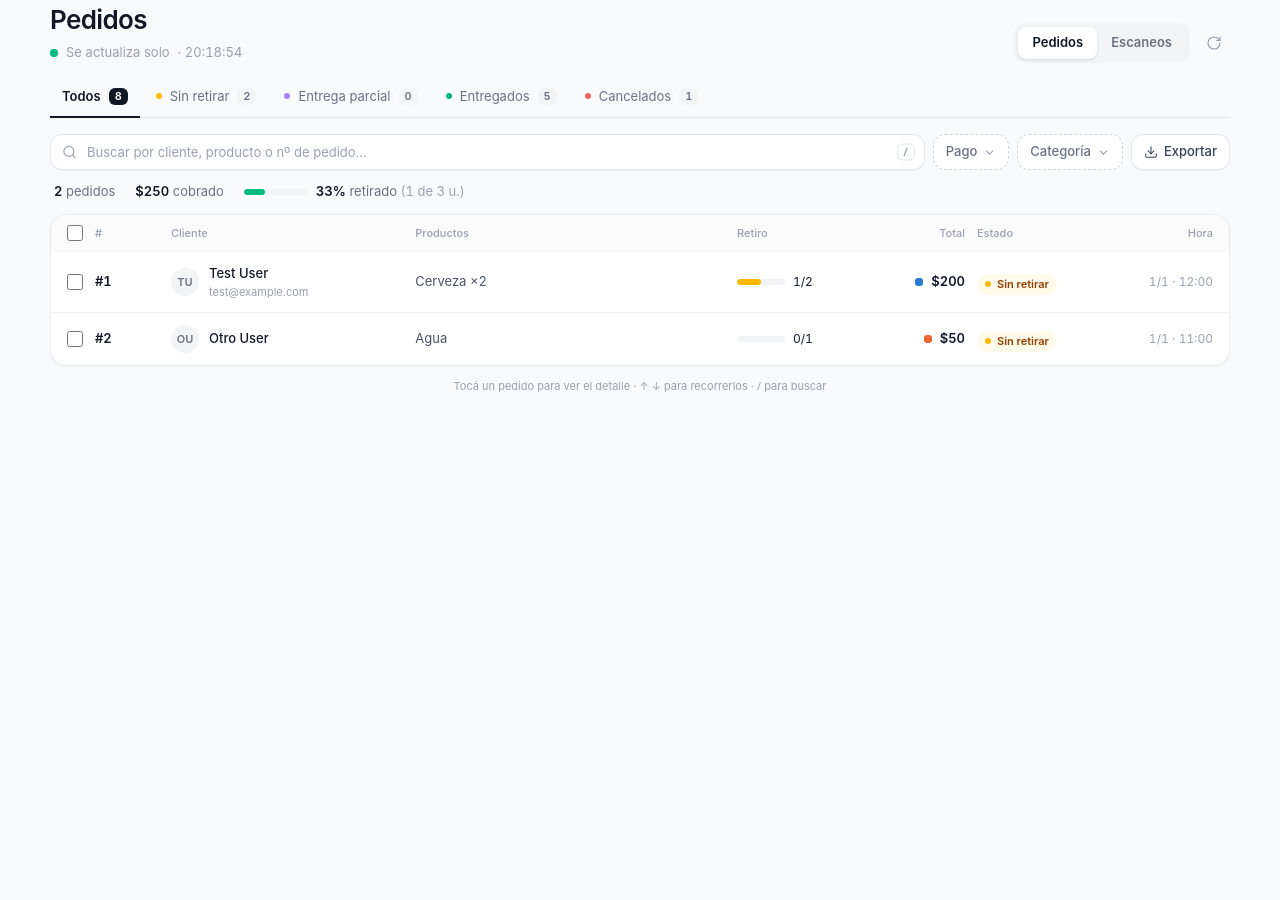
Test case: OrdersView › abre el panel de detalle con la línea de tiempo y navega con el teclado
Click the button named "Ver detalle del pedido #1" at (103, 282), box [95,272,112,292]
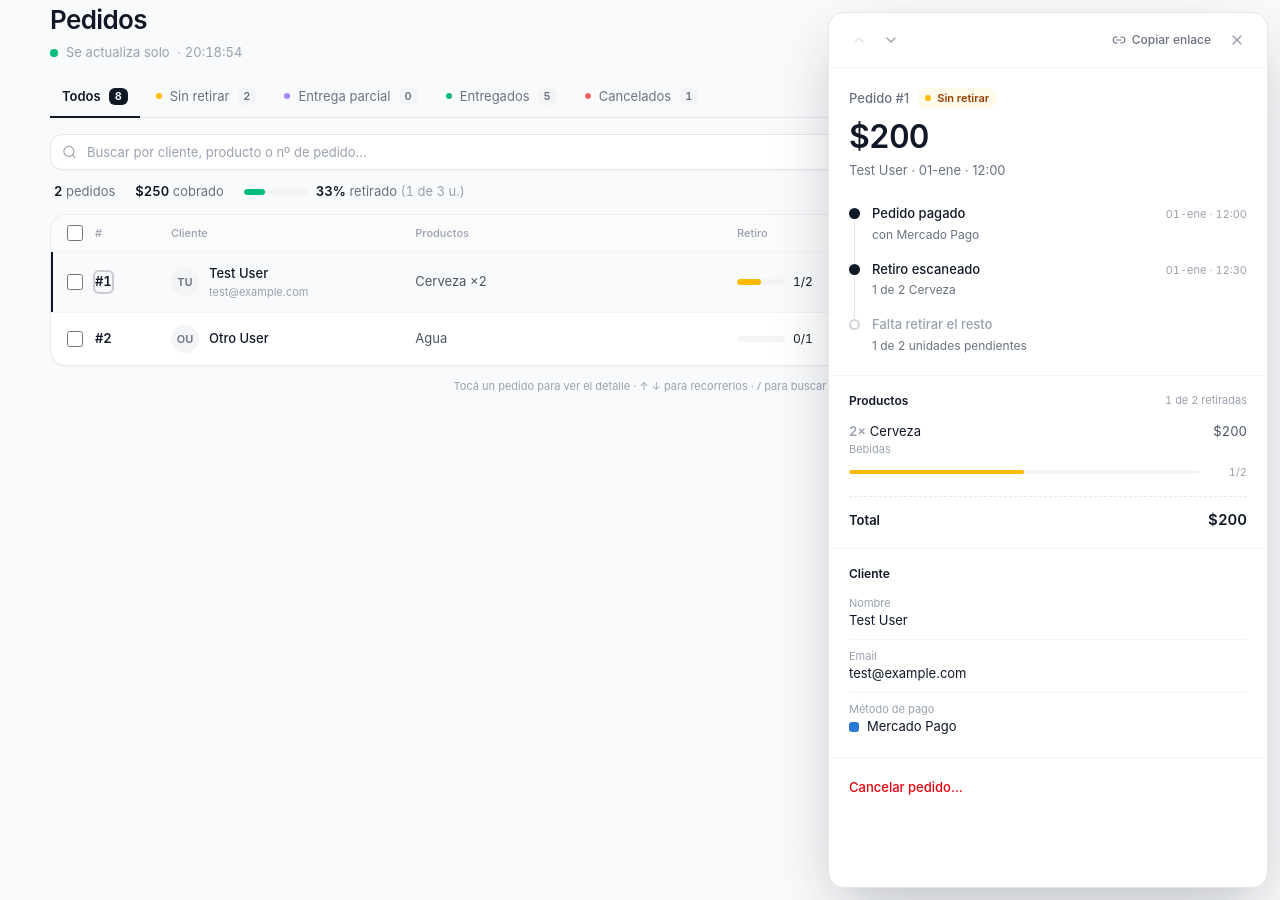
Expected: the text "Pedido pagado" is shown, [872,204,965,224]
Expected: the text "Retiro escaneado" is shown, [872,260,980,279]
Expected: the text "Falta retirar el resto" is shown, [872,315,992,334]
Press ArrowDown
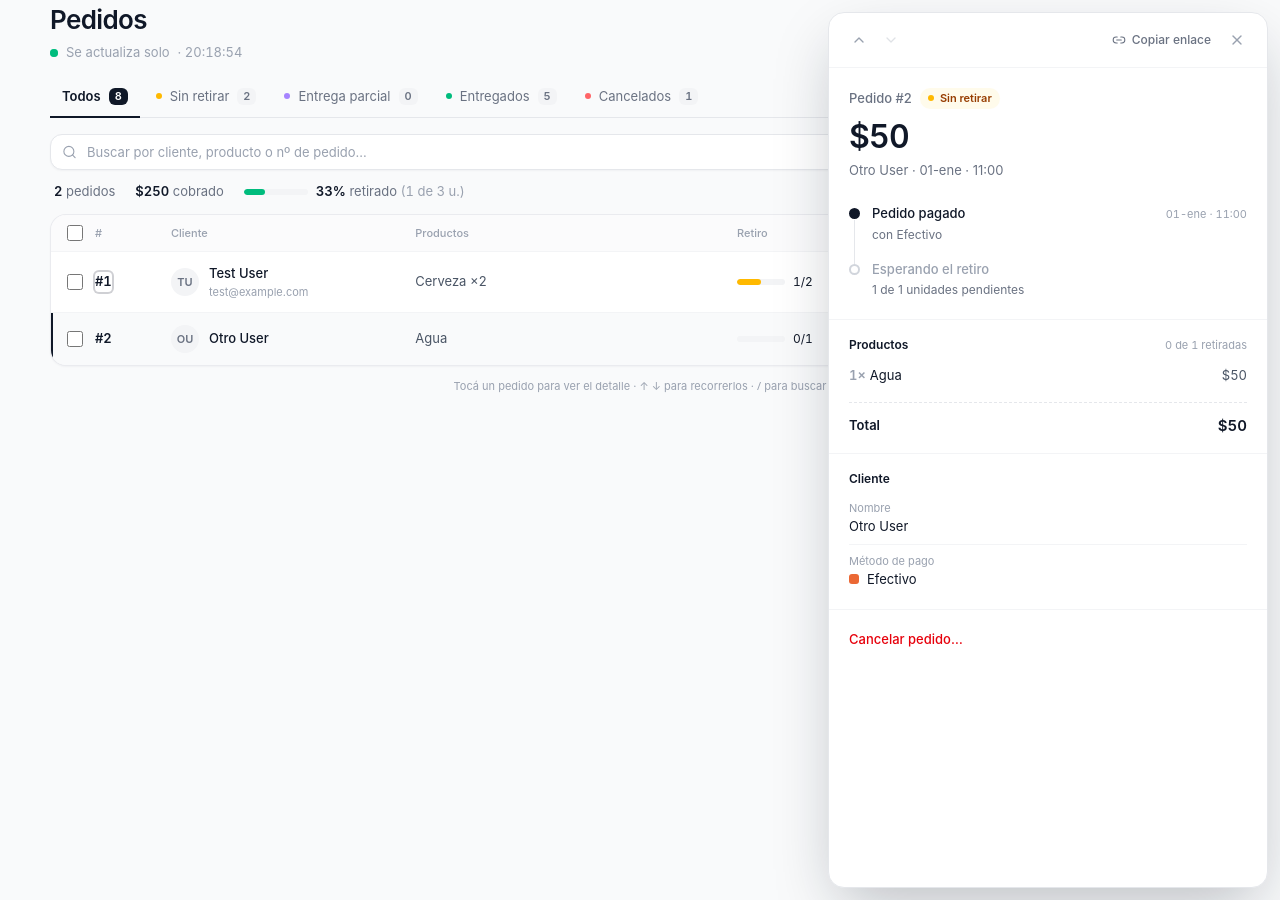
Expected: the dialog "Pedido #2" is shown, [828,12,1268,888]
Press Escape
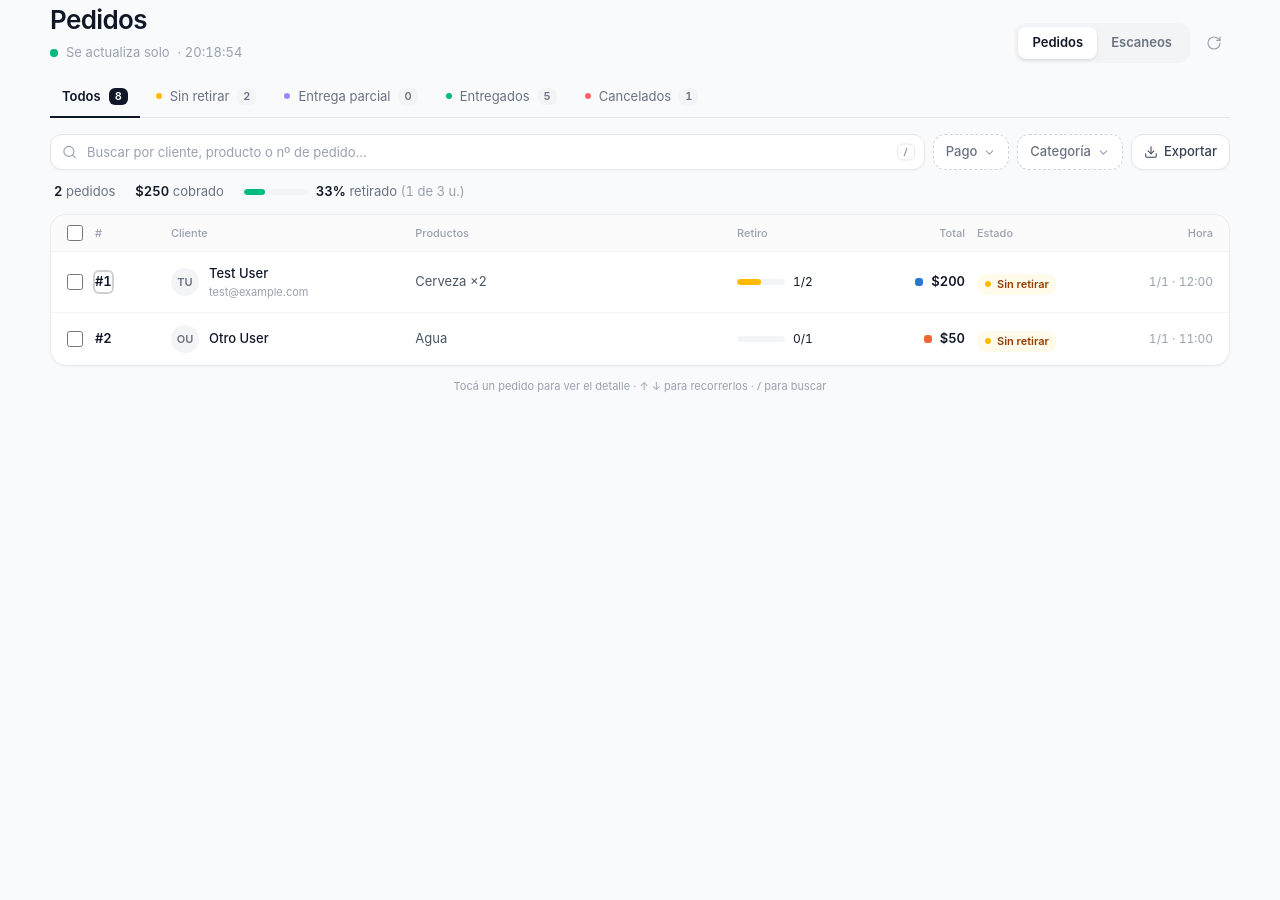
Expected: the dialog is gone
